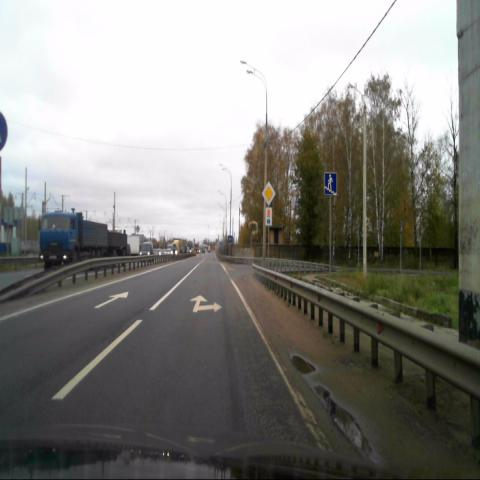6_7: (324, 171, 338, 196)
